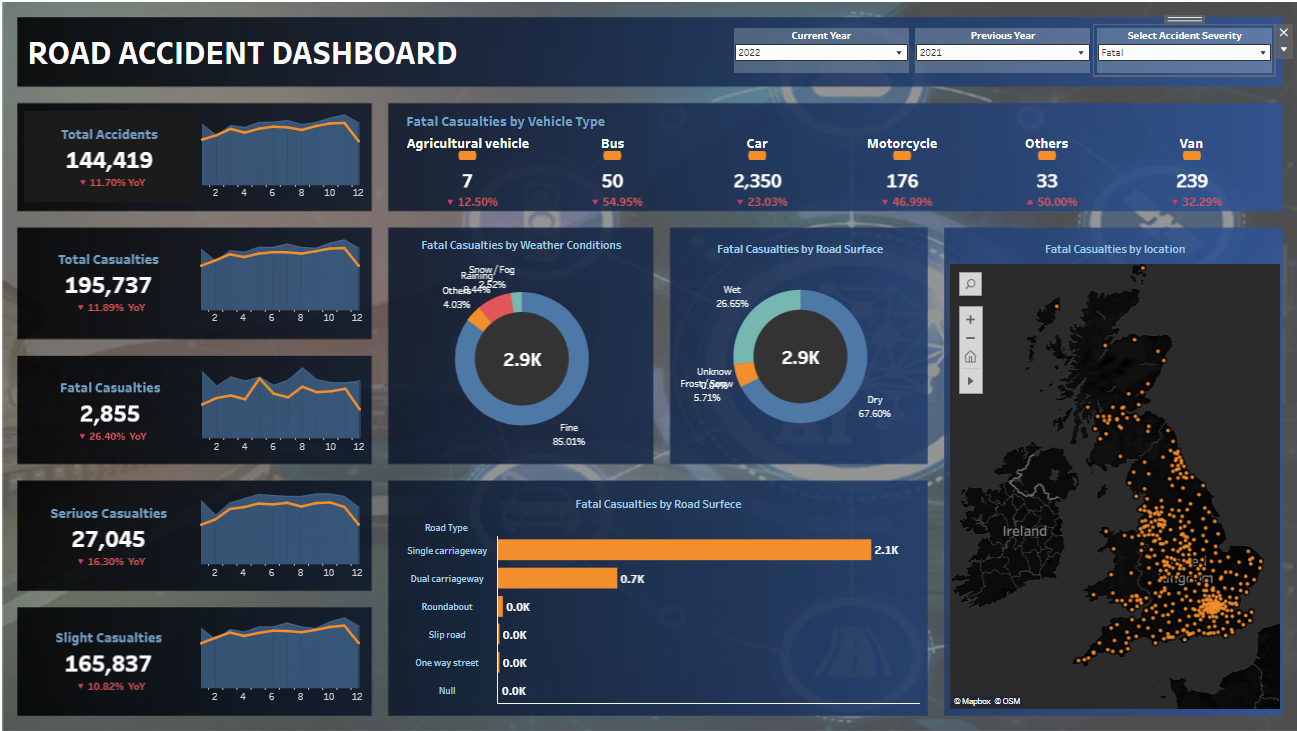

Layout of this report page (visuals, bound fields, positions):
{"tool":"powerbi","page":{"name":"Página 1","canvas":[1920,1080],"ordinal":0},"visuals":[{"type":"card","title":"Total CY Casualties","fields":{"Values":["Measures (2).CY casualties"]},"box":[21.7,141.2,347.5,126.7],"z":0},{"type":"card","fields":{"Values":["Measures (2).YoY Casualties"]},"box":[110.4,255.2,139.3,54.3],"z":1000},{"type":"card","title":"Total CY Accidents","fields":{"Values":["Measures (2).CY Accidents Counts"]},"box":[396.5,138.1,347.5,126.7],"z":2000},{"type":"card","fields":{"Values":["Measures (2).YoY Accidents"]},"box":[485.2,252.1,139.3,54.3],"z":3000},{"type":"card","title":"CY Fatal Casualties","fields":{"Values":["Measures (2).CY casualties"]},"box":[783.1,139.6,347.5,126.7],"z":4000},{"type":"card","fields":{"Values":["Measures (2).YoY Casualties"]},"box":[871.8,253.6,139.3,54.3],"z":5000},{"type":"card","title":"CY Serious Casualties","fields":{"Values":["Measures (2).CY casualties"]},"box":[1168.5,139.7,347.5,126.7],"z":6000},{"type":"card","fields":{"Values":["Measures (2).YoY Casualties"]},"box":[1257.2,253.7,139.3,54.3],"z":7000},{"type":"card","title":"CY Slight Casualties","fields":{"Values":["Measures (2).CY casualties"]},"box":[1545.7,139.8,347.5,126.7],"z":8000},{"type":"card","fields":{"Values":["Measures (2).YoY Casualties"]},"box":[1634.4,253.8,139.3,54.3],"z":9000},{"type":"textbox","box":[21.7,14.5,937.4,99.5],"z":10000},{"type":"multiRowCard","fields":{"Values":["Data.Vehicle_Type (grupos)","Measures (2).CY casualties"]},"box":[181,412.6,204.5,557.4],"z":11000},{"type":"image","box":[70.6,845.1,110.4,88.7],"z":12000},{"type":"image","box":[85.1,589.9,95.9,79.6],"z":13000},{"type":"image","box":[65.1,673.2,124.9,92.3],"z":14000},{"type":"image","box":[61.5,416.2,128.5,86.9],"z":15000},{"type":"image","box":[72.4,765.5,110.4,76],"z":16000},{"type":"image","box":[72.4,503.1,132.1,103.2],"z":17000},{"type":"textbox","box":[47.1,354.7,309.5,45.2],"z":18000},{"type":"areaChart","title":"CY Casualties vs PY Casualties Monthly Trend","fields":{"Category":["Calendar.Month"],"Y":["Sum(Data.Number_of_Casualties)"],"Series":["Calendar.Date.Variación.Jerarquía de fechas.Año"]},"box":[396.3,333,669.6,340.2],"z":19000},{"type":"donutChart","title":"Casualties por Urban / Rural","fields":{"Category":["Data.Urban_or_Rural_Area"],"Y":["Measures (2).CY casualties"]},"box":[1096.7,333,360.1,340.2],"z":20000},{"type":"donutChart","title":"Casualties by light conditions","fields":{"Y":["Measures (2).CY casualties"],"Category":["Data.Light_Conditions (grupos) 2"]},"box":[1096.7,704,360.1,340.2],"z":21000},{"type":"barChart","title":"Casualties by Road Type","fields":{"Category":["Data.Road_Type"],"Y":["Measures (2).CY casualties"]},"box":[396.3,704,669.6,340.2],"z":22000},{"type":"map","title":"Casualty by Location","fields":{"Y":["Data.Latitude"],"X":["Data.Longitude"],"Category":["Data.Local_Authority_(District)"]},"box":[1485.7,333,407.2,711.2],"z":23000},{"type":"slicer","fields":{"Values":["Data.Weather_Conditions (grupos)"]},"box":[1596.1,25.3,284.1,81.4],"z":24000},{"type":"slicer","fields":{"Values":["Data.Road_Surface_Conditions (grupos)"]},"box":[1312,25.3,284.1,81.4],"z":25000}]}

Visuals, with their boxes in screenshot pixels (x1, y1, x2, y2), scaled from the page's 1920x1080 canvas onto the 1297x731 screenshot:
"Total CY Casualties" card: pyautogui.locateOnScreen(15, 96, 249, 181)
card - Measures (2).YoY Casualties: pyautogui.locateOnScreen(75, 173, 169, 209)
"Total CY Accidents" card: pyautogui.locateOnScreen(268, 93, 503, 179)
card - Measures (2).YoY Accidents: pyautogui.locateOnScreen(328, 171, 422, 207)
"CY Fatal Casualties" card: pyautogui.locateOnScreen(529, 94, 764, 180)
card - Measures (2).YoY Casualties: pyautogui.locateOnScreen(589, 172, 683, 208)
"CY Serious Casualties" card: pyautogui.locateOnScreen(789, 95, 1024, 180)
card - Measures (2).YoY Casualties: pyautogui.locateOnScreen(849, 172, 943, 208)
"CY Slight Casualties" card: pyautogui.locateOnScreen(1044, 95, 1279, 180)
card - Measures (2).YoY Casualties: pyautogui.locateOnScreen(1104, 172, 1198, 209)
textbox: pyautogui.locateOnScreen(15, 10, 648, 77)
multiRowCard - Data.Vehicle_Type (grupos) x Measures (2).CY casualties: pyautogui.locateOnScreen(122, 279, 260, 657)
image: pyautogui.locateOnScreen(48, 572, 122, 632)
image: pyautogui.locateOnScreen(57, 399, 122, 453)
image: pyautogui.locateOnScreen(44, 456, 128, 518)
image: pyautogui.locateOnScreen(42, 282, 128, 341)
image: pyautogui.locateOnScreen(49, 518, 123, 570)
image: pyautogui.locateOnScreen(49, 341, 138, 410)
textbox: pyautogui.locateOnScreen(32, 240, 241, 271)
"CY Casualties vs PY Casualties Monthly Trend" areaChart: pyautogui.locateOnScreen(268, 225, 720, 456)
"Casualties por Urban / Rural" donutChart: pyautogui.locateOnScreen(741, 225, 984, 456)
"Casualties by light conditions" donutChart: pyautogui.locateOnScreen(741, 477, 984, 707)
"Casualties by Road Type" barChart: pyautogui.locateOnScreen(268, 477, 720, 707)
"Casualty by Location" map: pyautogui.locateOnScreen(1004, 225, 1279, 707)
slicer - Data.Weather_Conditions (grupos): pyautogui.locateOnScreen(1078, 17, 1270, 72)
slicer - Data.Road_Surface_Conditions (grupos): pyautogui.locateOnScreen(886, 17, 1078, 72)
